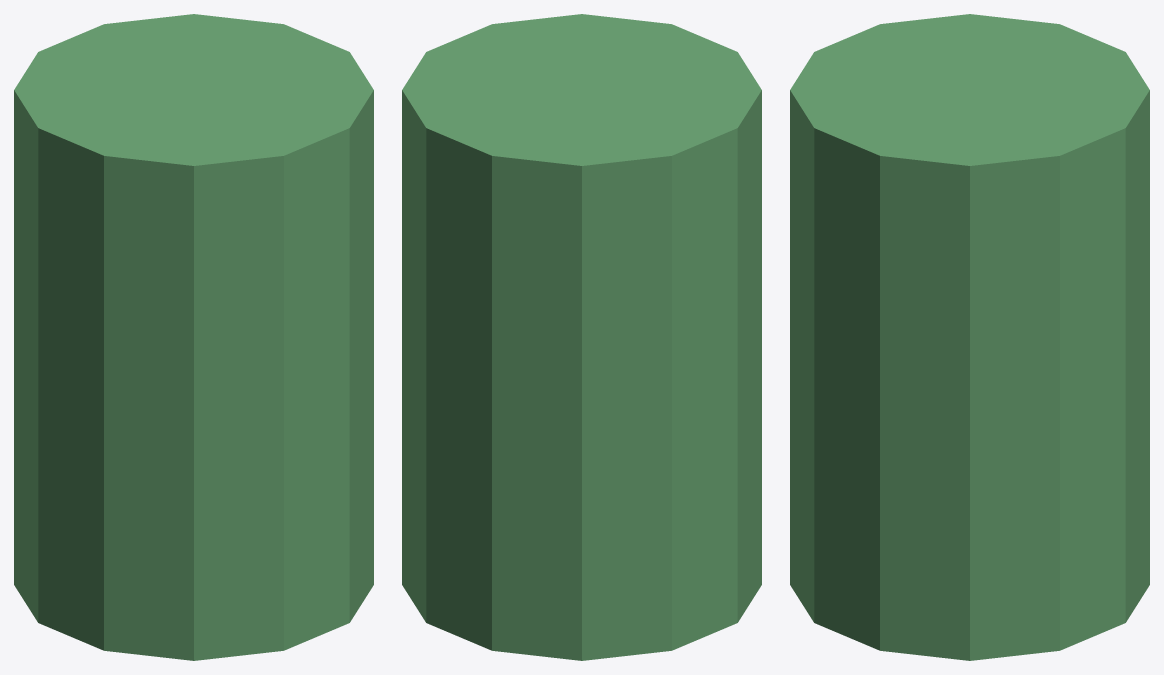
File: bin.glb
The picture shows the model from 3 angles, left to right: view 1: azimuth 30°, elevation 25°; view 2: azimuth 150°, elevation 25°; view 3: azimuth 270°, elevation 25°; orthographic projection.
Visible parts, largest first — view 1: bin_body; view 2: bin_body; view 3: bin_body.
Boxes of the visible parts, x1=… form: bin_body: x1=14, y1=14, x2=373, y2=660; bin_body: x1=402, y1=14, x2=761, y2=660; bin_body: x1=790, y1=14, x2=1149, y2=660.
Size of the model in its own units: 0.56 by 0.85 by 0.56.
